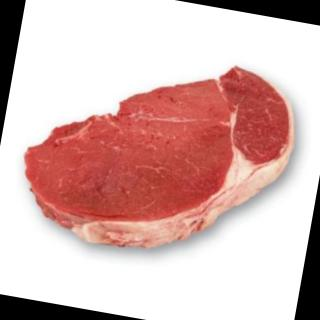Daging Sapi: (13, 34, 305, 279)
